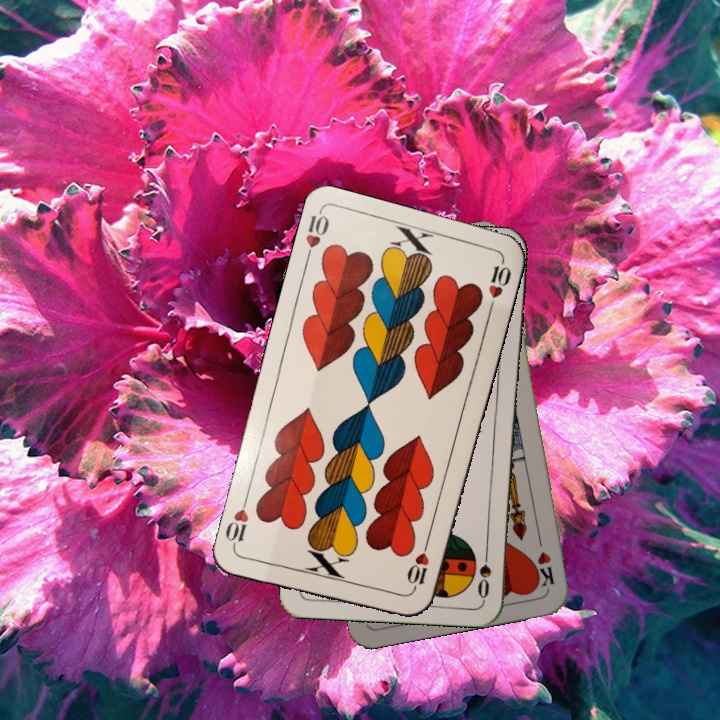H10: (301, 209, 332, 267), (403, 538, 432, 596)
HK: (533, 530, 557, 589)
SO: (474, 542, 494, 601)
